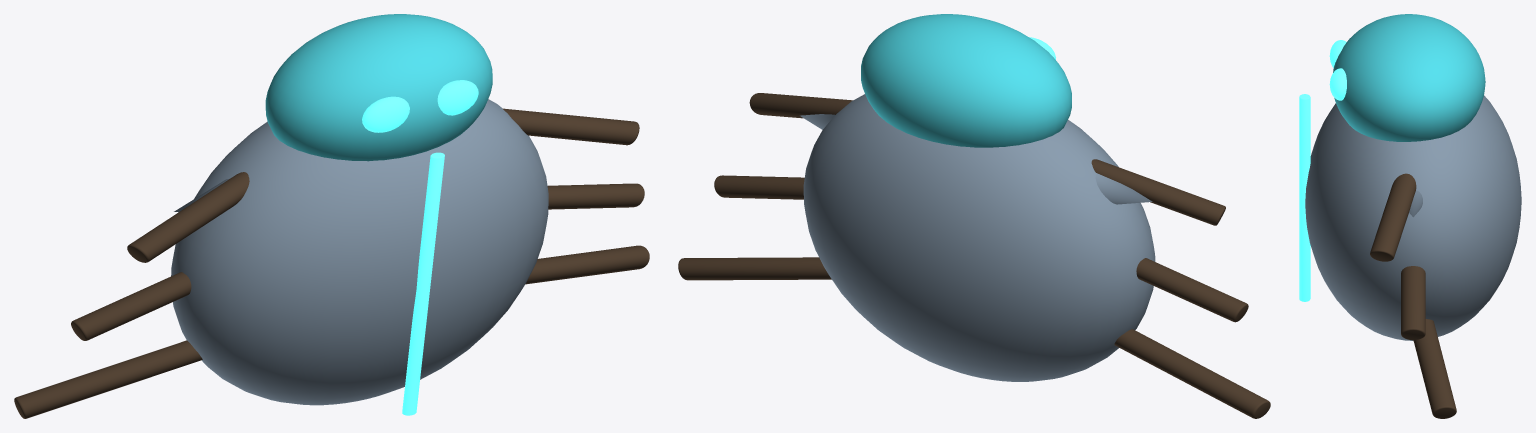
File: insect_v5.glb
3 views of the same model, side by side, from view 1: azimuth 30°, elevation 25°; view 2: azimuth 150°, elevation 25°; view 3: azimuth 270°, elevation 25° (orthographic). The views are drawn at different scales.
Visible parts, largest first — view 1: BEETLE_SHELL_PRIMARY, BEETLE_HEAD_ACCENT, BEETLE_LEG_SECONDARY.004, SHELL_SEAM_EMISSIVE, BEETLE_LEG_SECONDARY, BEETLE_LEG_SECONDARY.001, BEETLE_LEG_SECONDARY.002, BEETLE_LEG_SECONDARY.005, BEETLE_LEG_SECONDARY.003, EYE_EMISSIVE, EYE_EMISSIVE.001; view 2: BEETLE_SHELL_PRIMARY, BEETLE_HEAD_ACCENT, BEETLE_LEG_SECONDARY.004, BEETLE_LEG_SECONDARY.005, BEETLE_LEG_SECONDARY, BEETLE_LEG_SECONDARY.002, BEETLE_LEG_SECONDARY.003, BEETLE_LEG_SECONDARY.001, SHOULDER_TUSK_PRIMARY; view 3: BEETLE_SHELL_PRIMARY, BEETLE_HEAD_ACCENT, BEETLE_LEG_SECONDARY.005, SHELL_SEAM_EMISSIVE, BEETLE_LEG_SECONDARY.001, BEETLE_LEG_SECONDARY.003, EYE_EMISSIVE.001, EYE_EMISSIVE, SHOULDER_TUSK_PRIMARY.001.
Part boxes in pixels (bbox=[...]): BEETLE_SHELL_PRIMARY: bbox=[171, 99, 548, 405]; BEETLE_HEAD_ACCENT: bbox=[265, 14, 492, 161]; BEETLE_LEG_SECONDARY.004: bbox=[14, 340, 202, 418]; SHELL_SEAM_EMISSIVE: bbox=[402, 152, 444, 415]; BEETLE_LEG_SECONDARY: bbox=[127, 172, 249, 262]; BEETLE_LEG_SECONDARY.001: bbox=[503, 108, 639, 145]; BEETLE_LEG_SECONDARY.002: bbox=[71, 272, 191, 340]; BEETLE_LEG_SECONDARY.005: bbox=[525, 245, 649, 284]; BEETLE_LEG_SECONDARY.003: bbox=[547, 183, 644, 209]; EYE_EMISSIVE: bbox=[362, 96, 409, 132]; EYE_EMISSIVE.001: bbox=[437, 80, 478, 115]; BEETLE_SHELL_PRIMARY: bbox=[803, 94, 1155, 381]; BEETLE_HEAD_ACCENT: bbox=[861, 14, 1071, 147]; BEETLE_LEG_SECONDARY.004: bbox=[1114, 329, 1270, 418]; BEETLE_LEG_SECONDARY.005: bbox=[678, 257, 831, 280]; BEETLE_LEG_SECONDARY: bbox=[1091, 159, 1225, 225]; BEETLE_LEG_SECONDARY.002: bbox=[1136, 258, 1248, 322]; BEETLE_LEG_SECONDARY.003: bbox=[714, 175, 804, 199]; BEETLE_LEG_SECONDARY.001: bbox=[749, 93, 852, 118]; SHOULDER_TUSK_PRIMARY: bbox=[1095, 173, 1152, 204]; BEETLE_SHELL_PRIMARY: bbox=[1305, 95, 1521, 340]; BEETLE_HEAD_ACCENT: bbox=[1333, 14, 1485, 141]; BEETLE_LEG_SECONDARY.005: bbox=[1413, 319, 1456, 418]; SHELL_SEAM_EMISSIVE: bbox=[1299, 94, 1310, 301]; BEETLE_LEG_SECONDARY.001: bbox=[1370, 173, 1416, 261]; BEETLE_LEG_SECONDARY.003: bbox=[1401, 266, 1425, 340]; EYE_EMISSIVE.001: bbox=[1329, 68, 1346, 100]; EYE_EMISSIVE: bbox=[1329, 40, 1346, 67]; SHOULDER_TUSK_PRIMARY.001: bbox=[1409, 190, 1422, 217].
Size of the model in its own units: 3.08 by 1.68 by 1.1.
